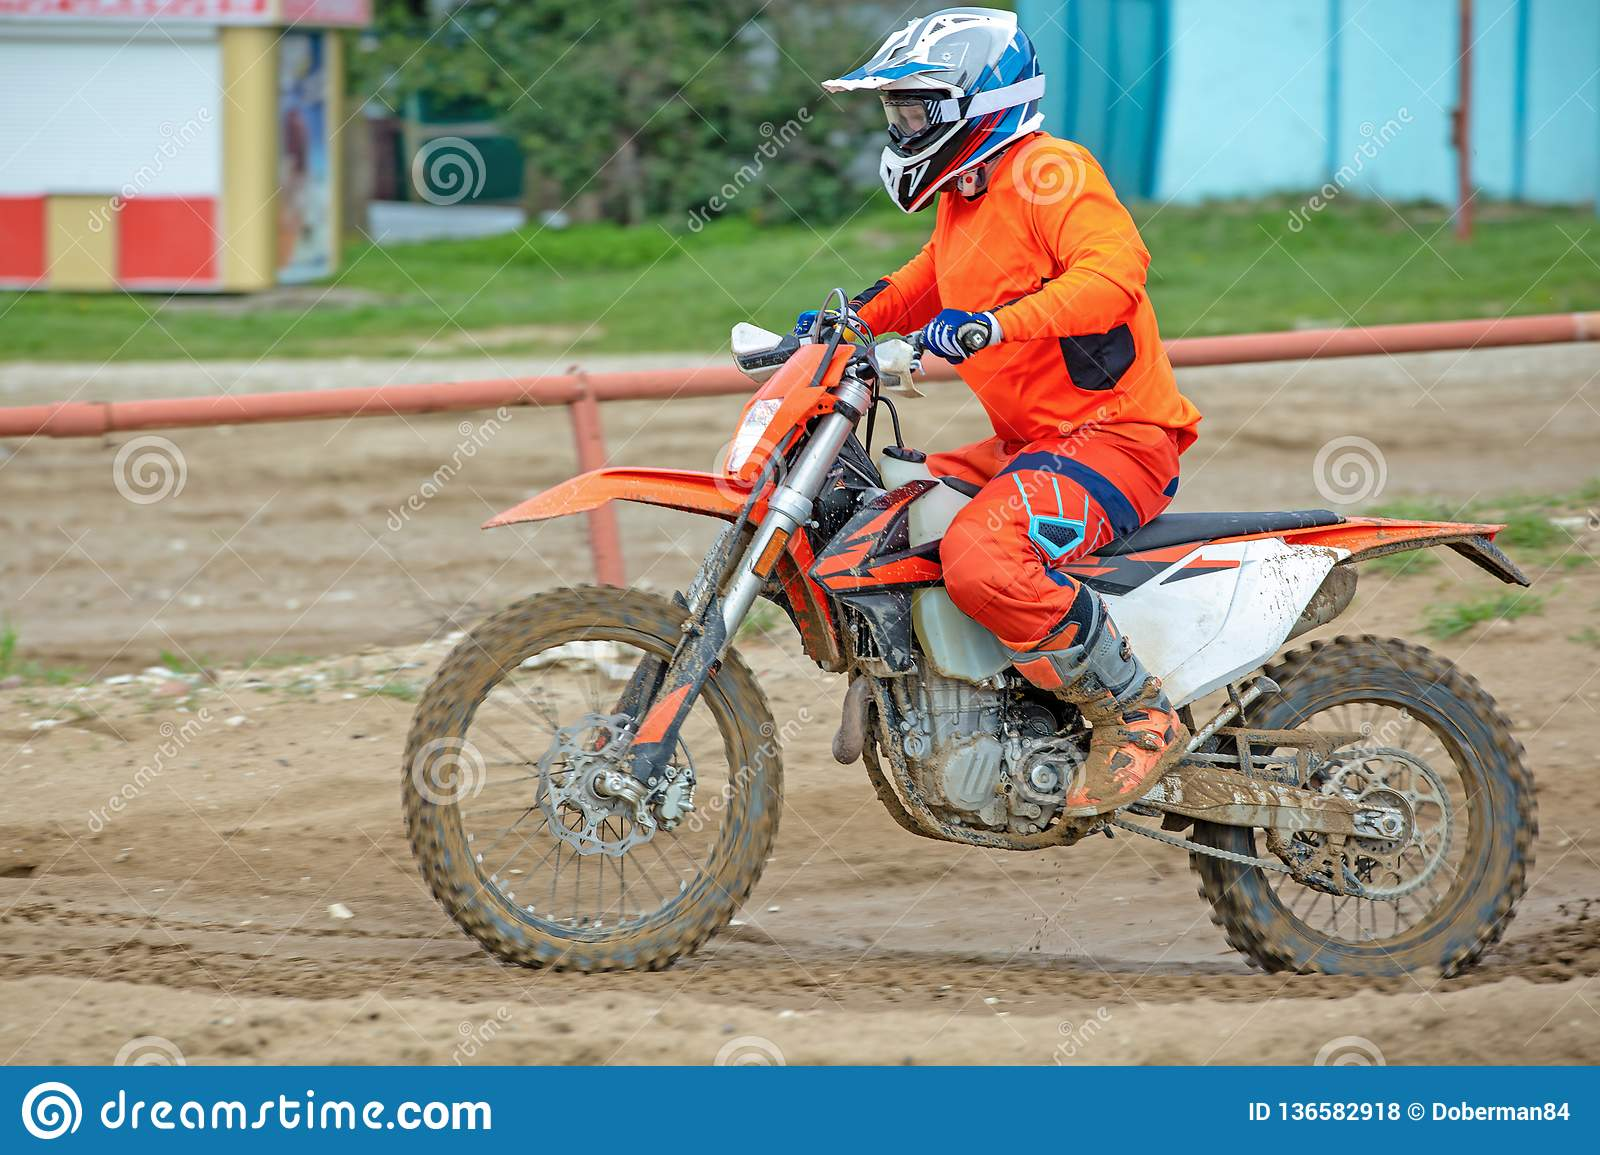helmet: (839, 1, 1040, 207)
